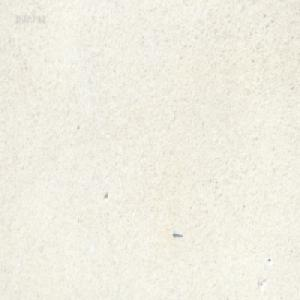Nail: (172, 230, 182, 237)
